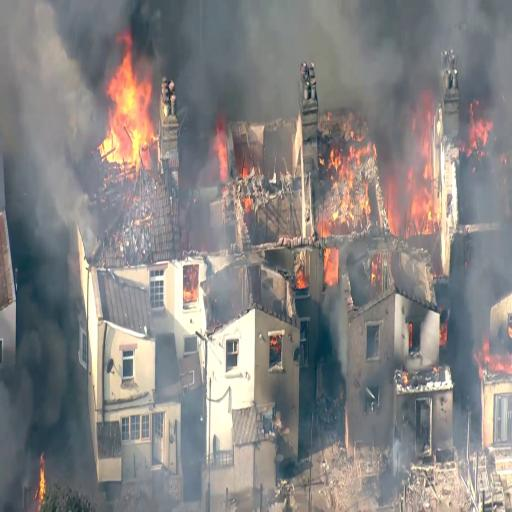fire: (89, 38, 162, 177), (386, 106, 442, 248), (316, 134, 368, 235), (324, 249, 339, 287)
smoke: (0, 0, 68, 233), (12, 292, 86, 460), (207, 0, 283, 106), (340, 0, 432, 69)
